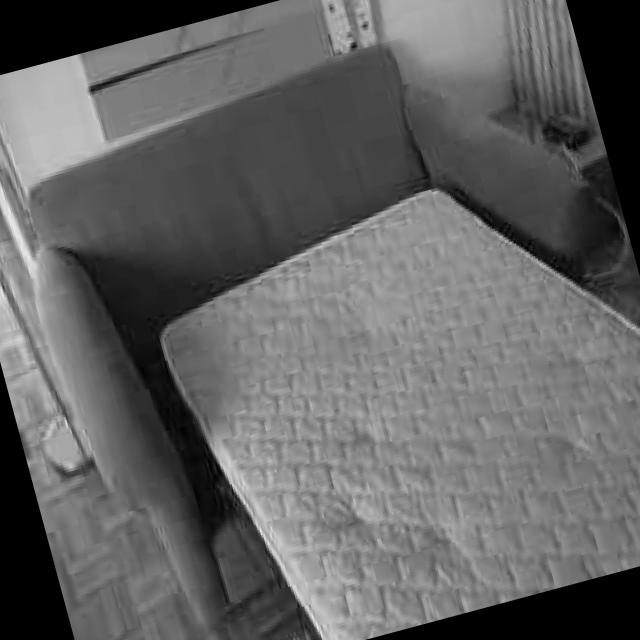floor -X: (0, 98, 640, 640)
lamp part: (0, 275, 89, 468)
mattress: (158, 188, 640, 640)
sofa crop: (23, 38, 640, 640)
